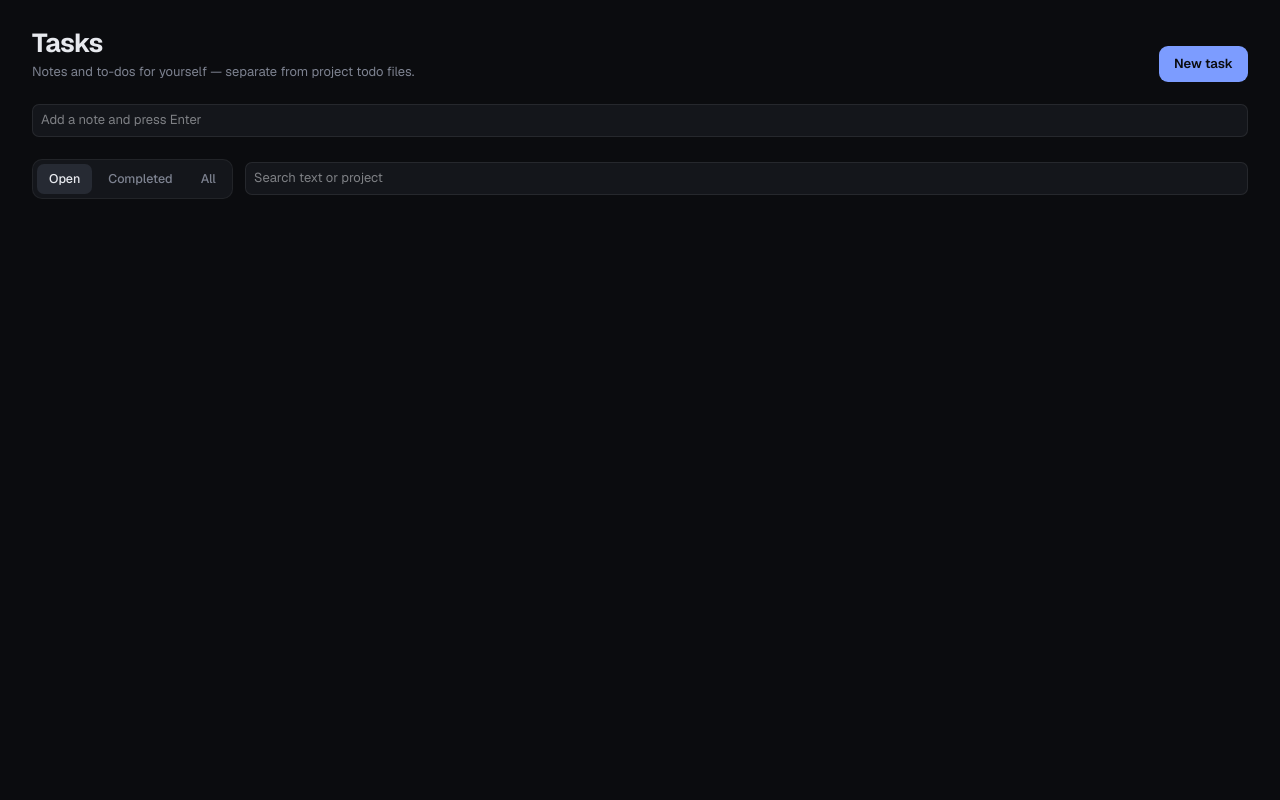
TasksPage › does not save an empty note
This screenshot has width=1280, height=800.
Click the button "New task": (1204, 64) [1159,46,1248,82]
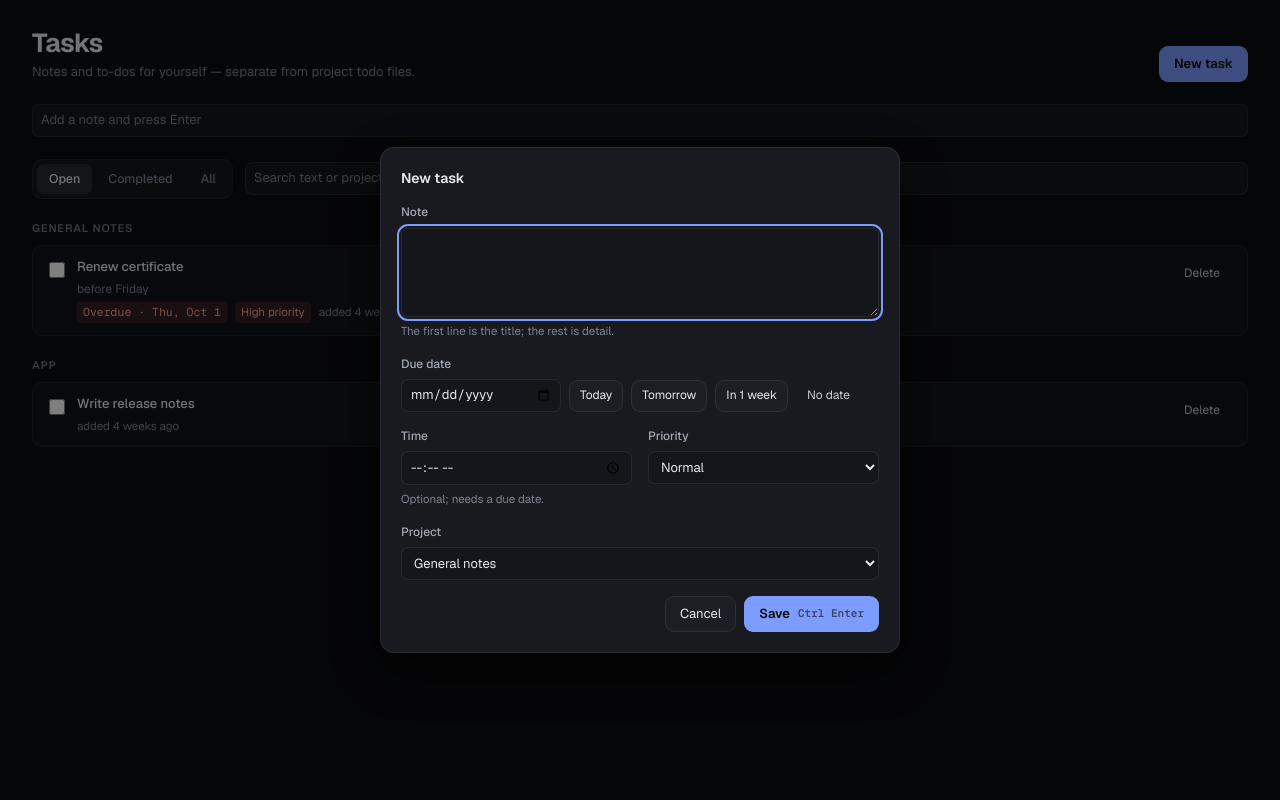
Click the button "Save Ctrl Enter": (812, 614) [744,596,879,632]
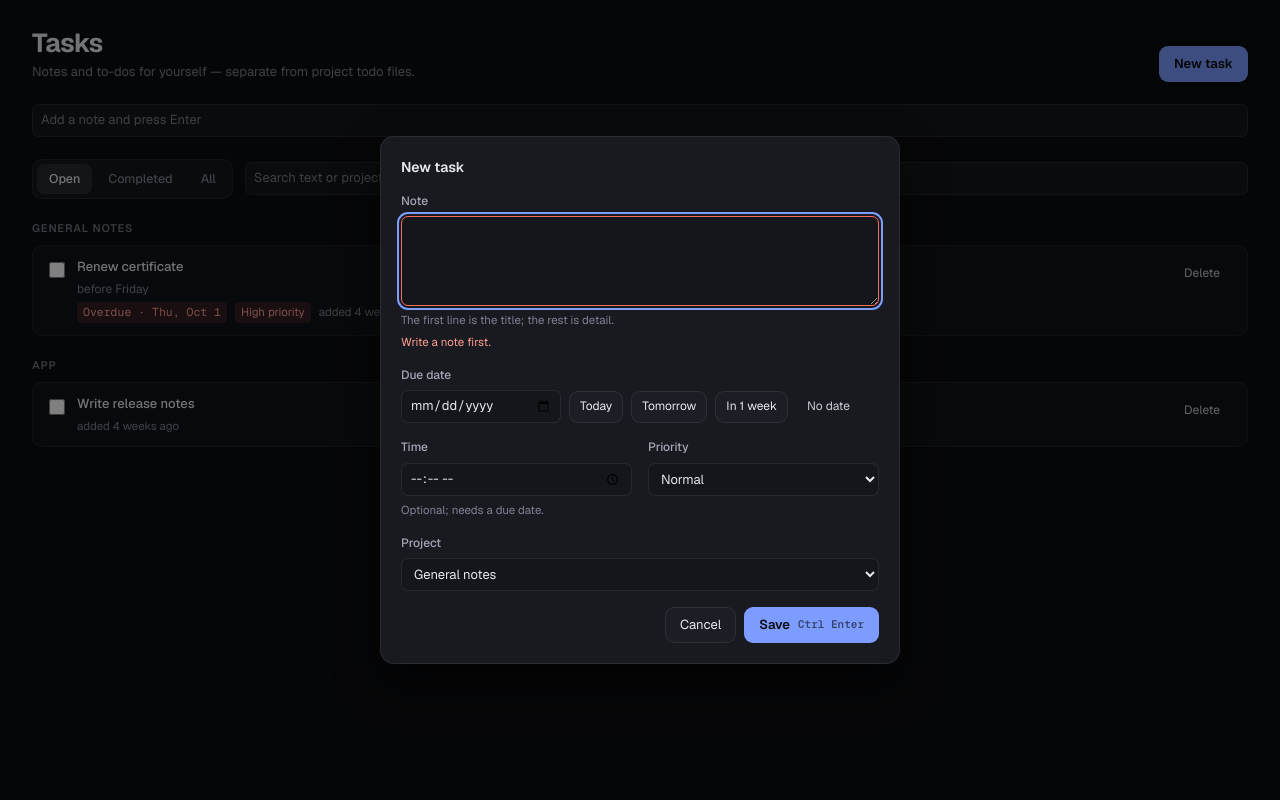
Result: the text "Write a note first." is shown at [401,334,491,349]
